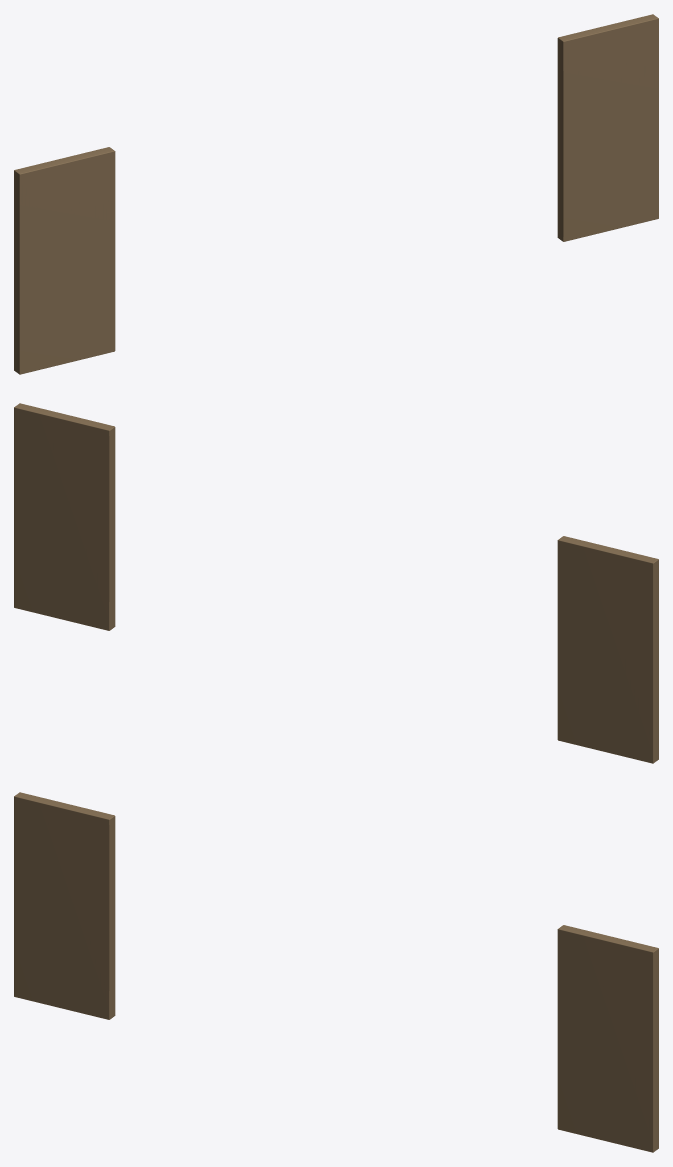
Rendered from Furniture_RoomDividers62.fbx.
The picture shows the model from 3 angles, top to bottom: view 1: azimuth 30°, elevation 25°; view 2: azimuth 150°, elevation 25°; view 3: azimuth 330°, elevation 25°; orthographic projection.
Parts seen in each view (by area): view 1: Furniture_RoomDividers62; view 2: Furniture_RoomDividers62; view 3: Furniture_RoomDividers62.
Boxes of the visible parts, x1,y1,x2,y2 form: Furniture_RoomDividers62: (14,14,658,374); Furniture_RoomDividers62: (14,403,658,763); Furniture_RoomDividers62: (14,792,658,1152).
Bounding box in the file's own units: 1000 × 300 × 16.
